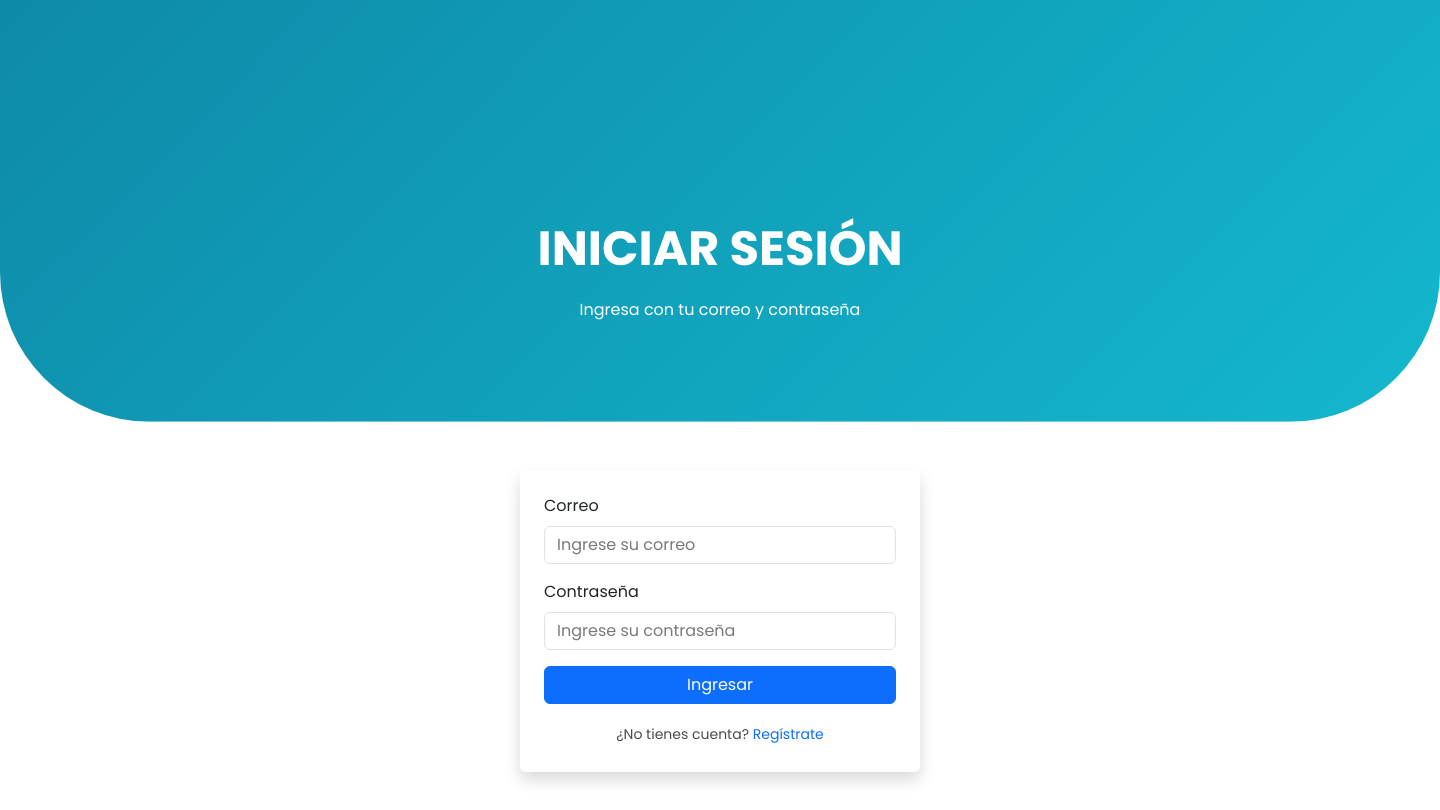
Test: Página Login › con credenciales que no existen muestra error y se queda en el login
In the field labelled "Correo": (720, 545) x1=544 y1=526 x2=896 y2=564, type "nadie@gmail.com"
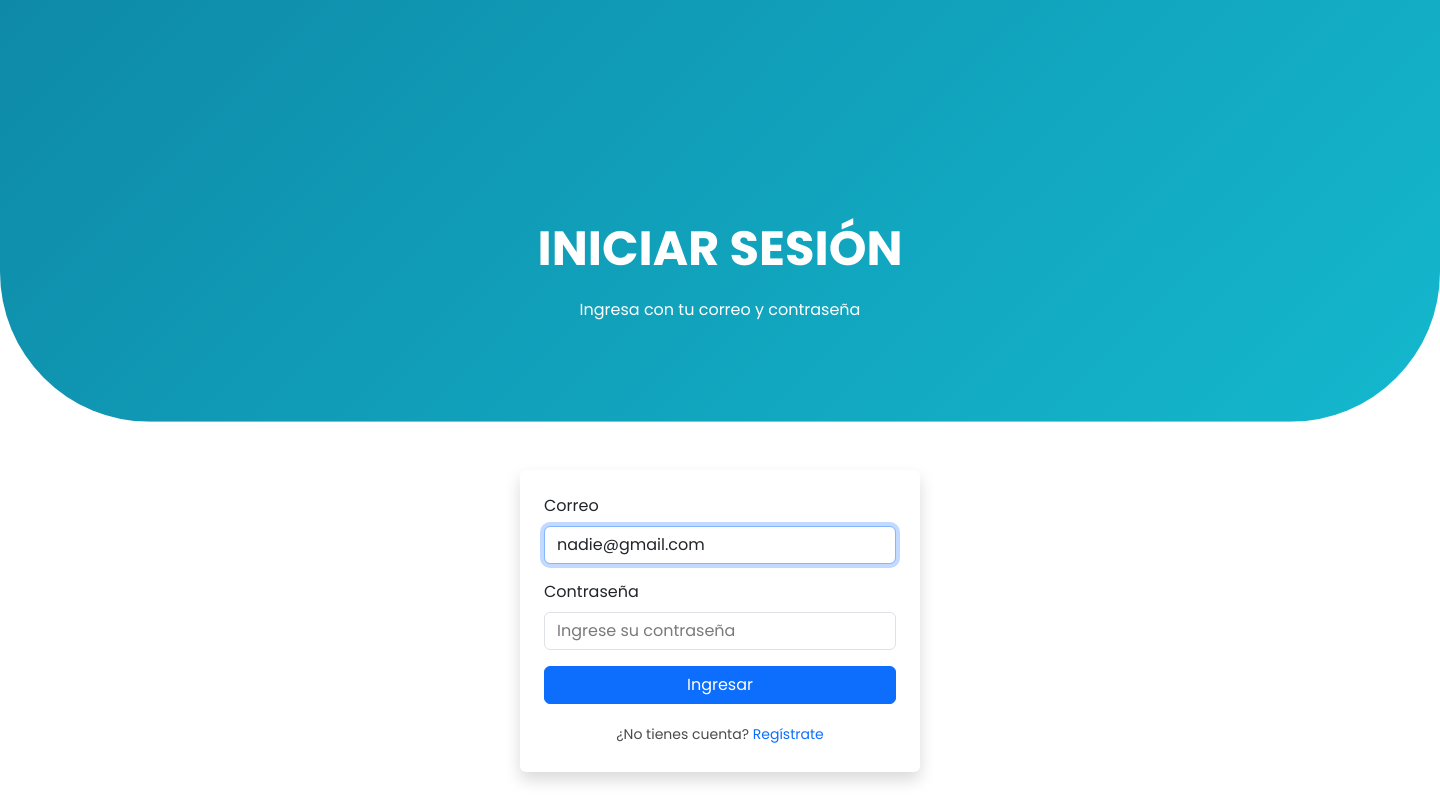
In the password field labelled "Contraseña": (720, 631) x1=544 y1=612 x2=896 y2=650, type "1234"
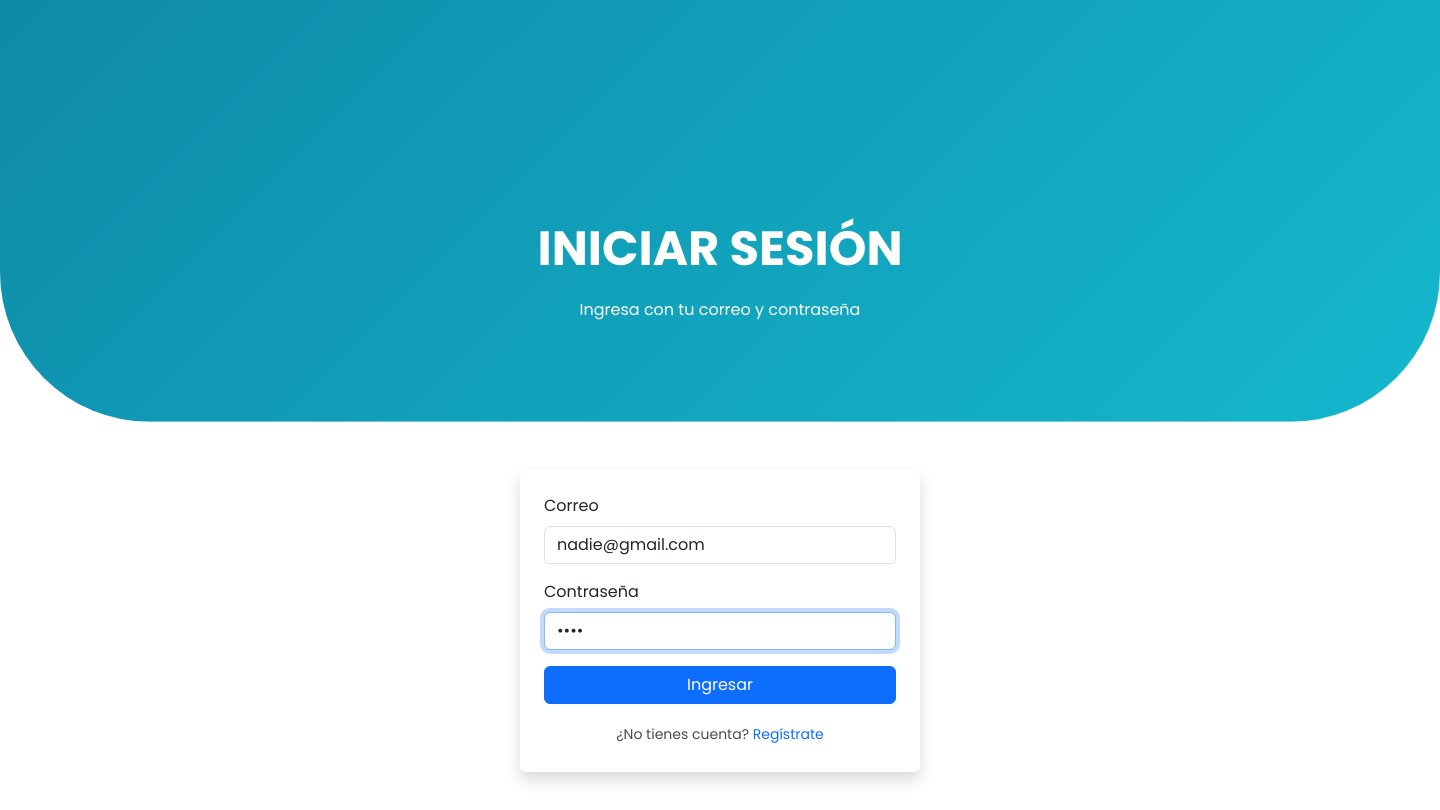
Click the button "Ingresar": (720, 685) x1=544 y1=666 x2=896 y2=704
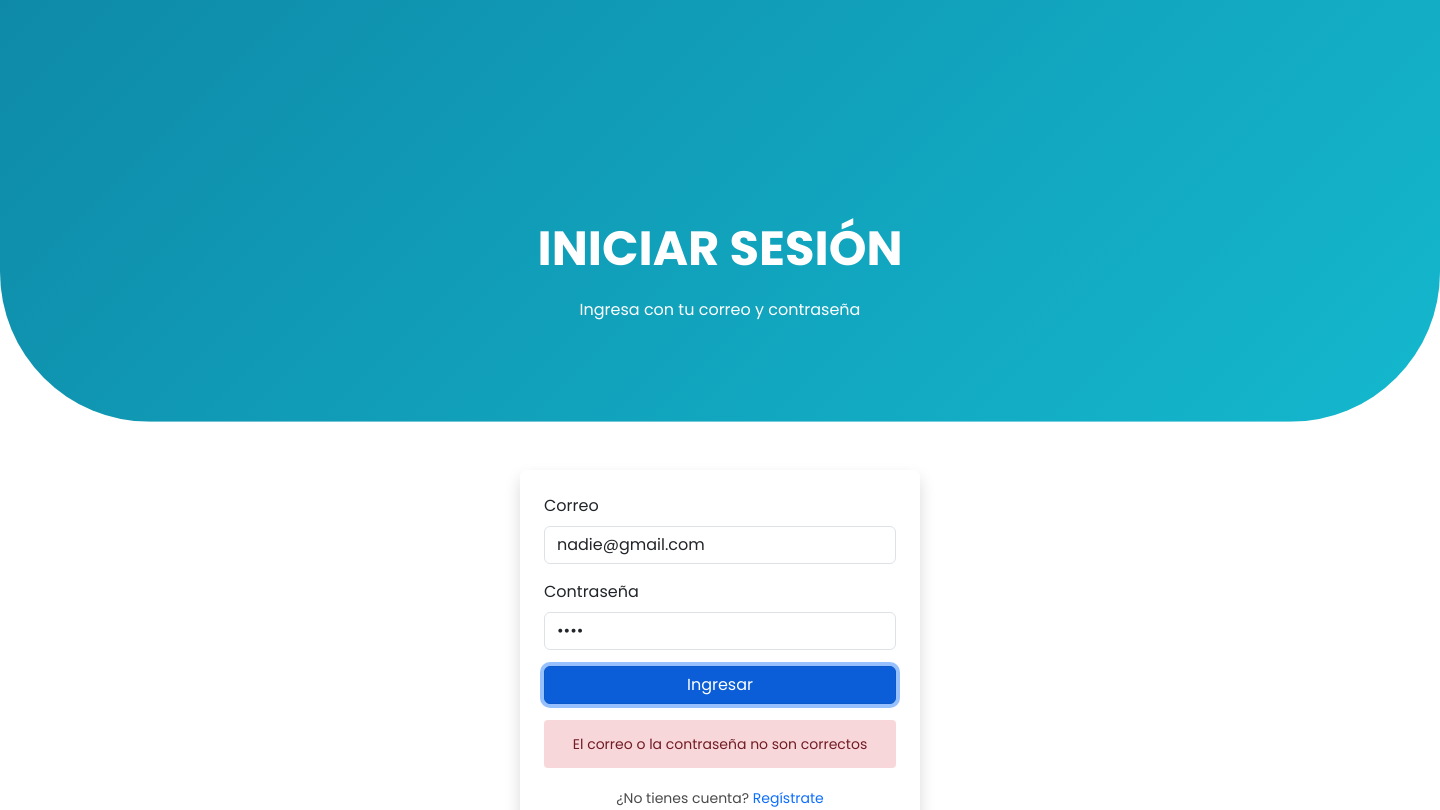
Now the message reads "El correo o la contraseña no son correctos", box x1=573 y1=734 x2=867 y2=754
